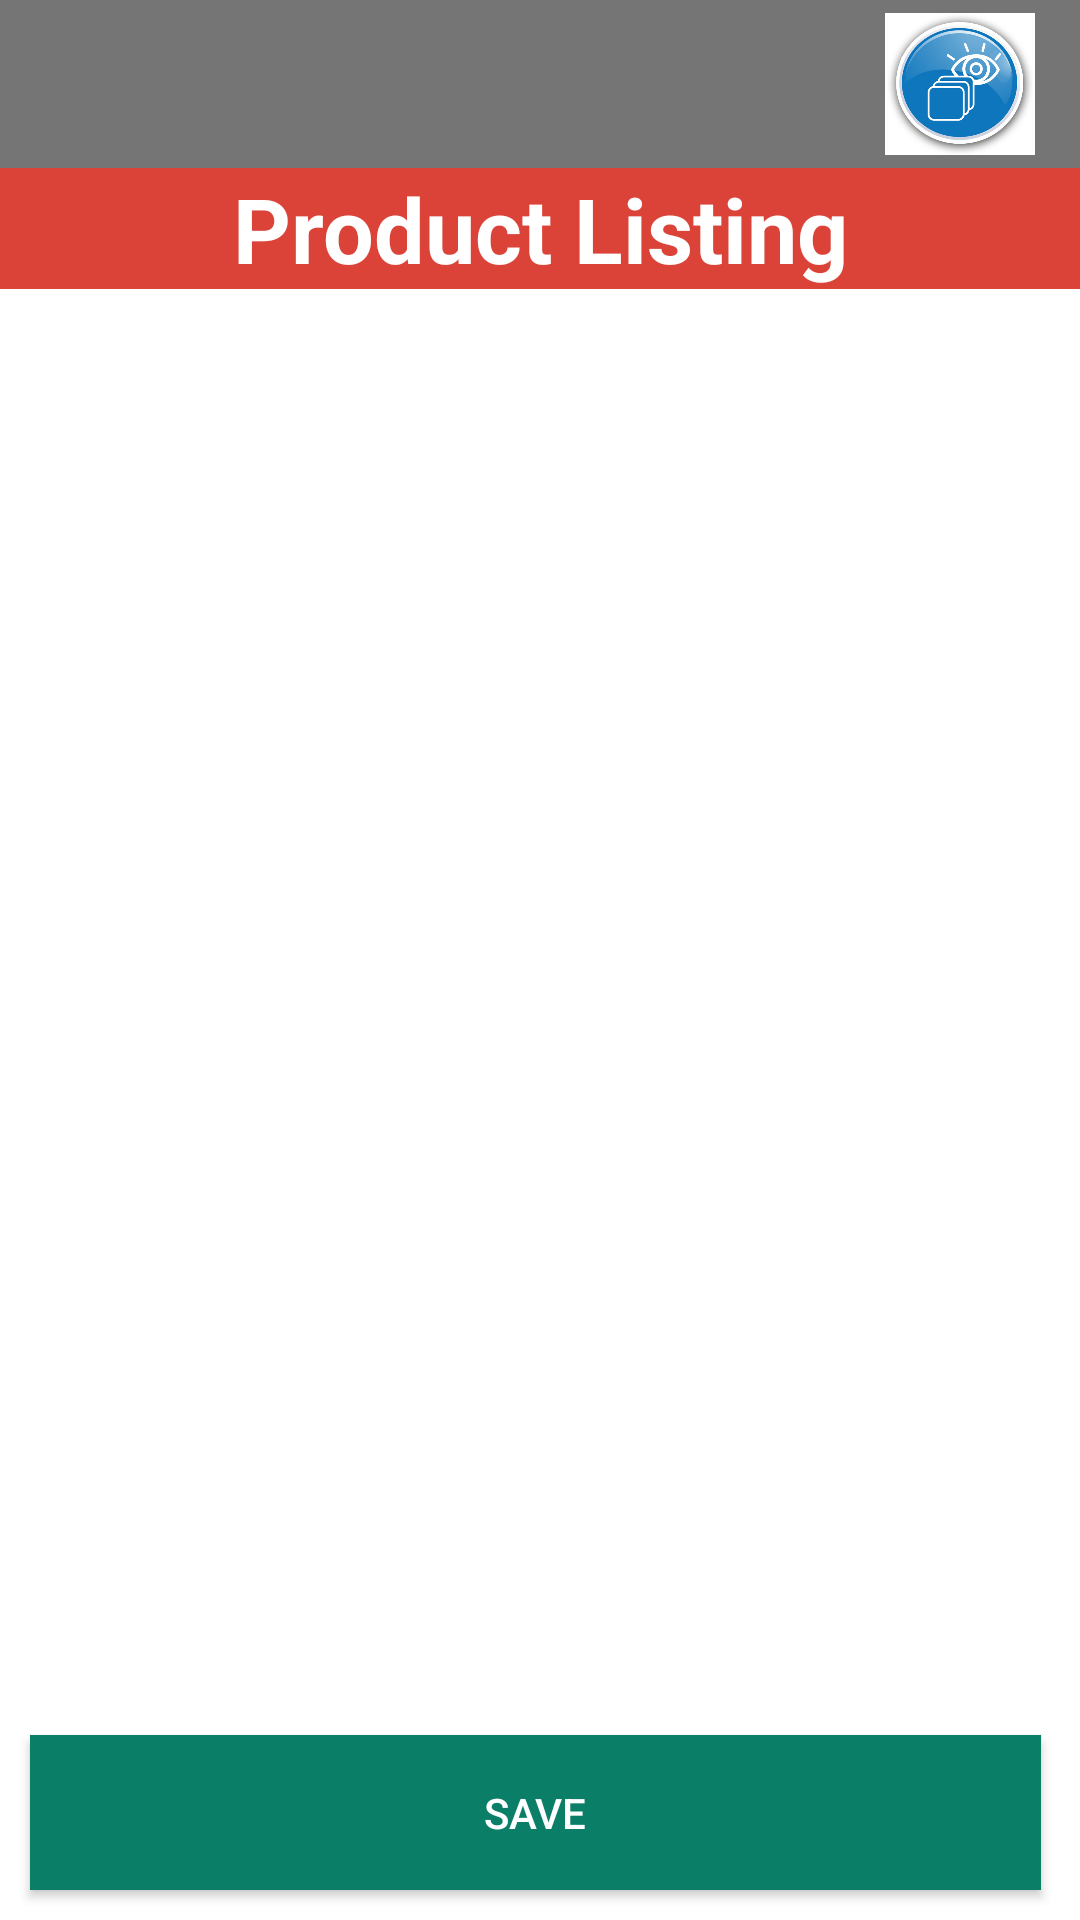

Where icons sit on this 1080x1920 app screen, as detection(x1, y1, x2, y2):
displayicon: detection(885, 13, 1035, 155)
